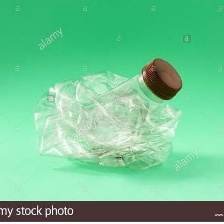bottle: (23, 52, 186, 183)
